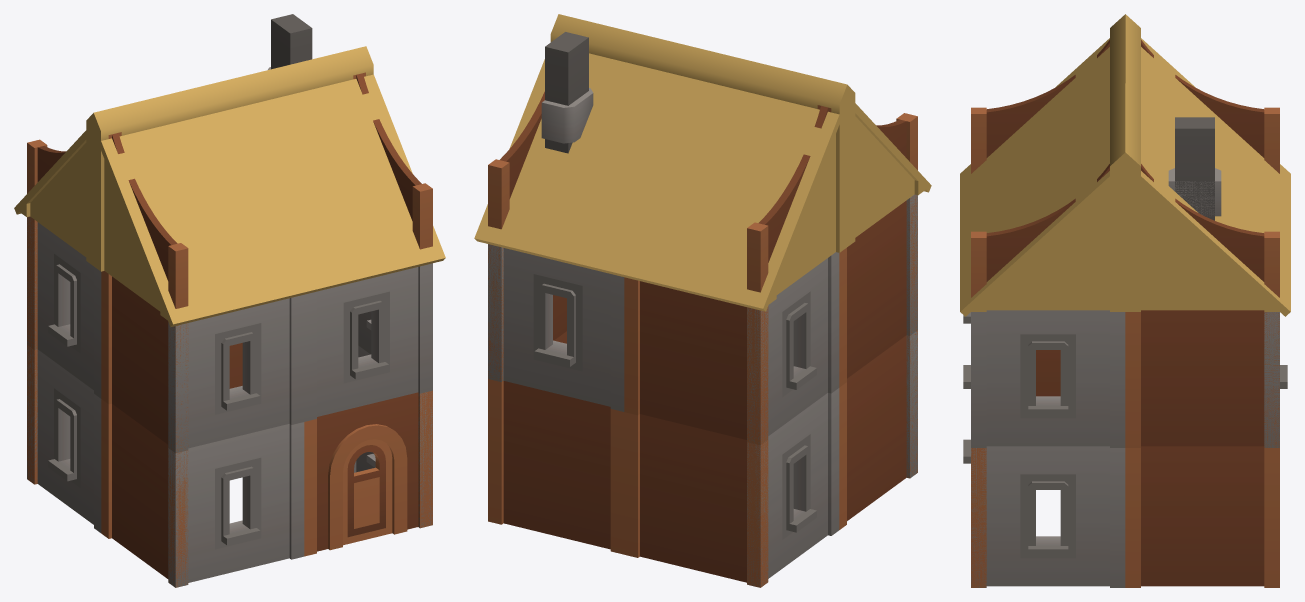
The model's file is maison-vent-3.glb.
3 views of the same model, side by side, from view 1: azimuth 30°, elevation 25°; view 2: azimuth 150°, elevation 25°; view 3: azimuth 270°, elevation 25° (orthographic). The views are drawn at different scales.
Visible parts, largest first — view 1: wall-wood-window-small, roof-high; view 2: wall-wood-window-small, roof-high; view 3: wall-wood-window-small, roof-high.
Part boxes in pixels (x1=…): wall-wood-window-small: x1=27, y1=14, x2=432, y2=587; roof-high: x1=14, y1=46, x2=445, y2=327; wall-wood-window-small: x1=488, y1=32, x2=917, y2=587; roof-high: x1=474, y1=14, x2=931, y2=311; wall-wood-window-small: x1=963, y1=40, x2=1287, y2=587; roof-high: x1=960, y1=14, x2=1290, y2=316.
Bounding box in the file's own units: 6.36 × 9.6 × 6.42.
2 materials, 1 textured.
